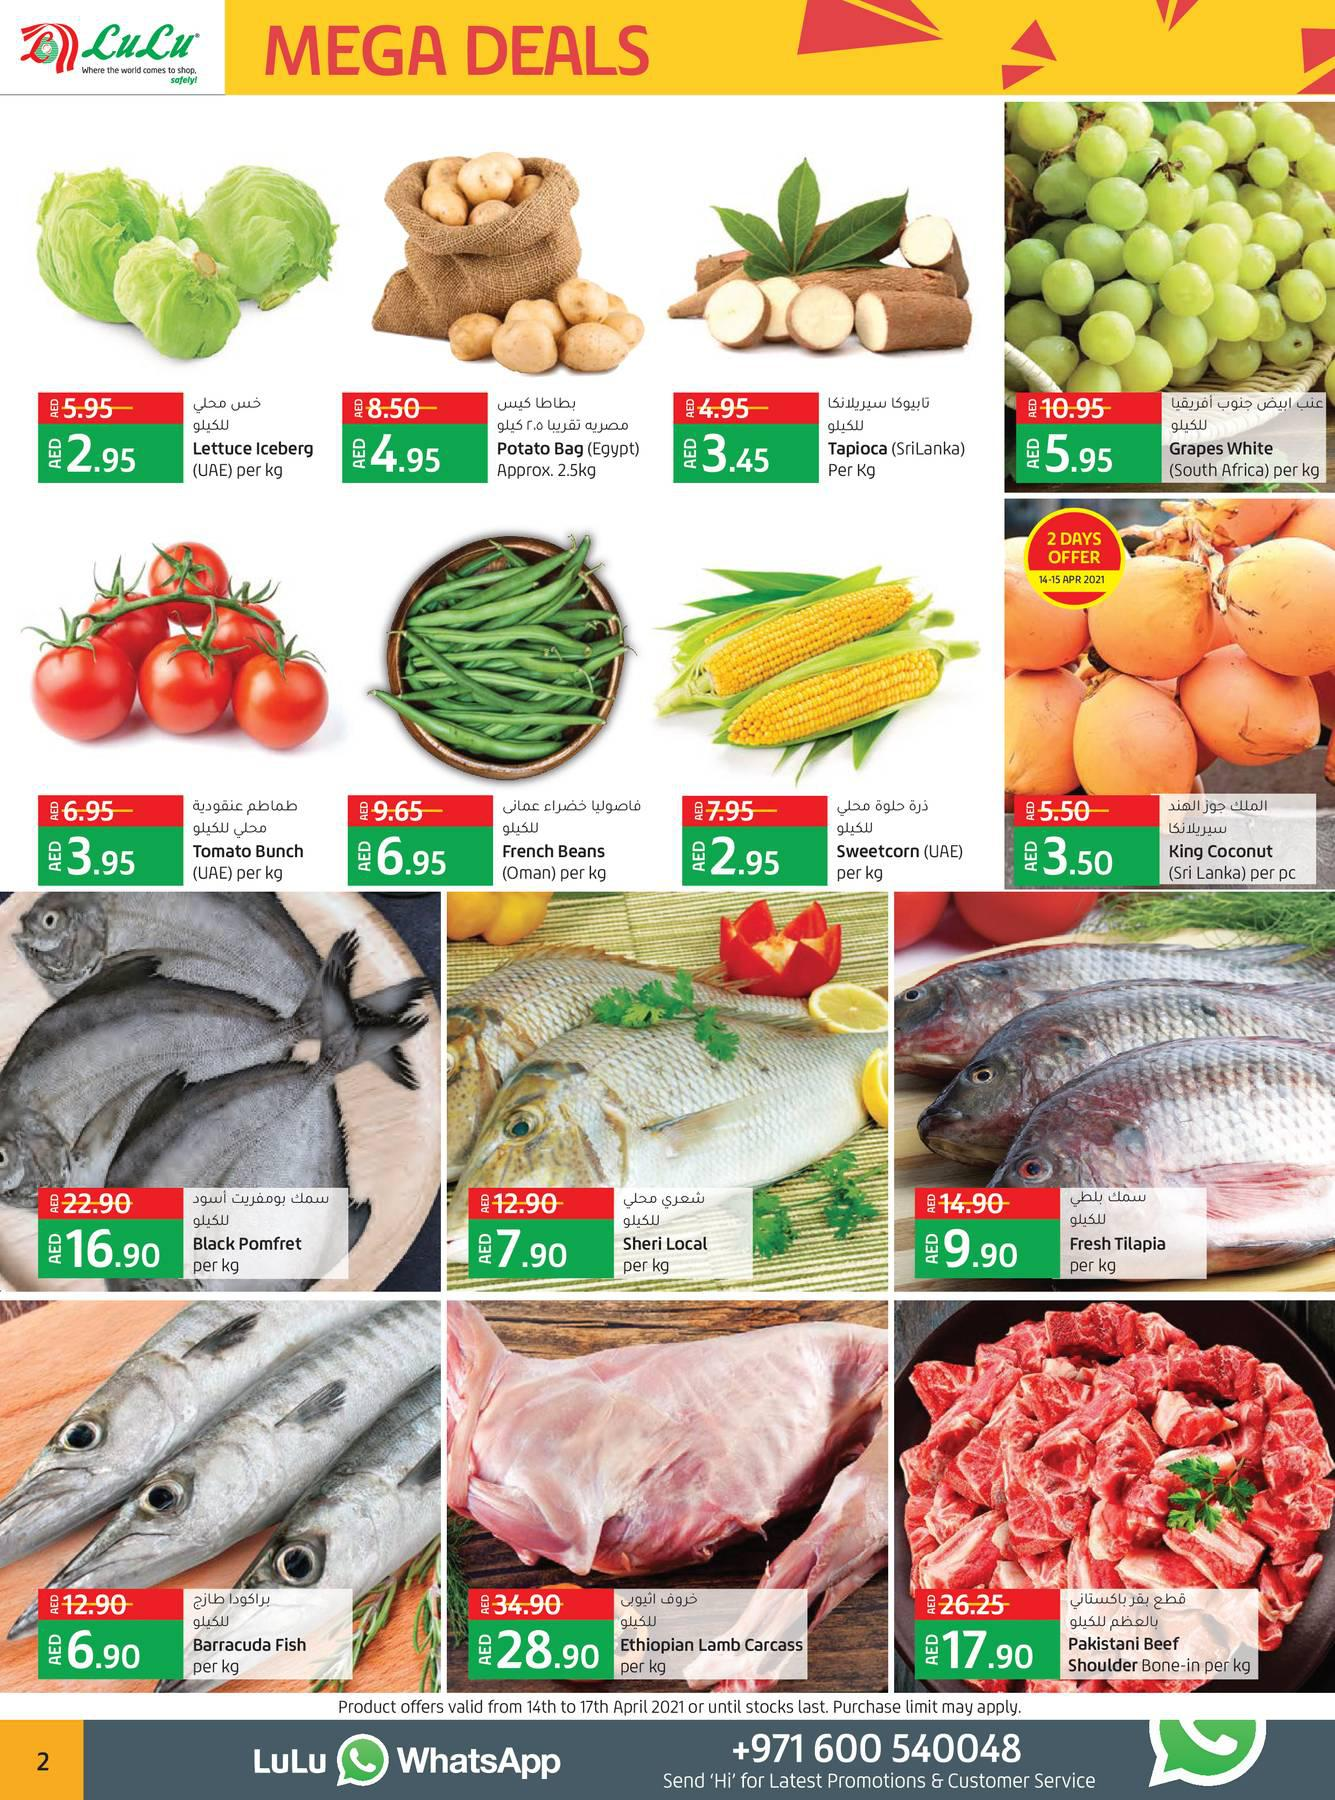text: (820, 381, 984, 488), (617, 1588, 811, 1678), (1064, 1590, 1258, 1678), (492, 381, 646, 489), (827, 789, 994, 889), (184, 383, 335, 492), (494, 792, 656, 886), (1163, 394, 1327, 484), (184, 1591, 353, 1677), (181, 1189, 341, 1279), (187, 789, 335, 885), (1161, 796, 1313, 885), (1063, 1189, 1203, 1279), (616, 1189, 747, 1279)
